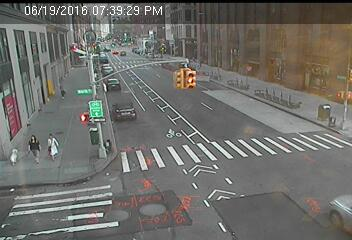neg: (98, 137, 118, 164), (5, 146, 23, 170), (7, 91, 25, 115), (325, 110, 342, 133), (77, 80, 92, 100), (314, 100, 326, 116), (79, 115, 91, 131)
pos: (19, 132, 43, 164), (40, 131, 62, 161), (51, 77, 70, 102)
